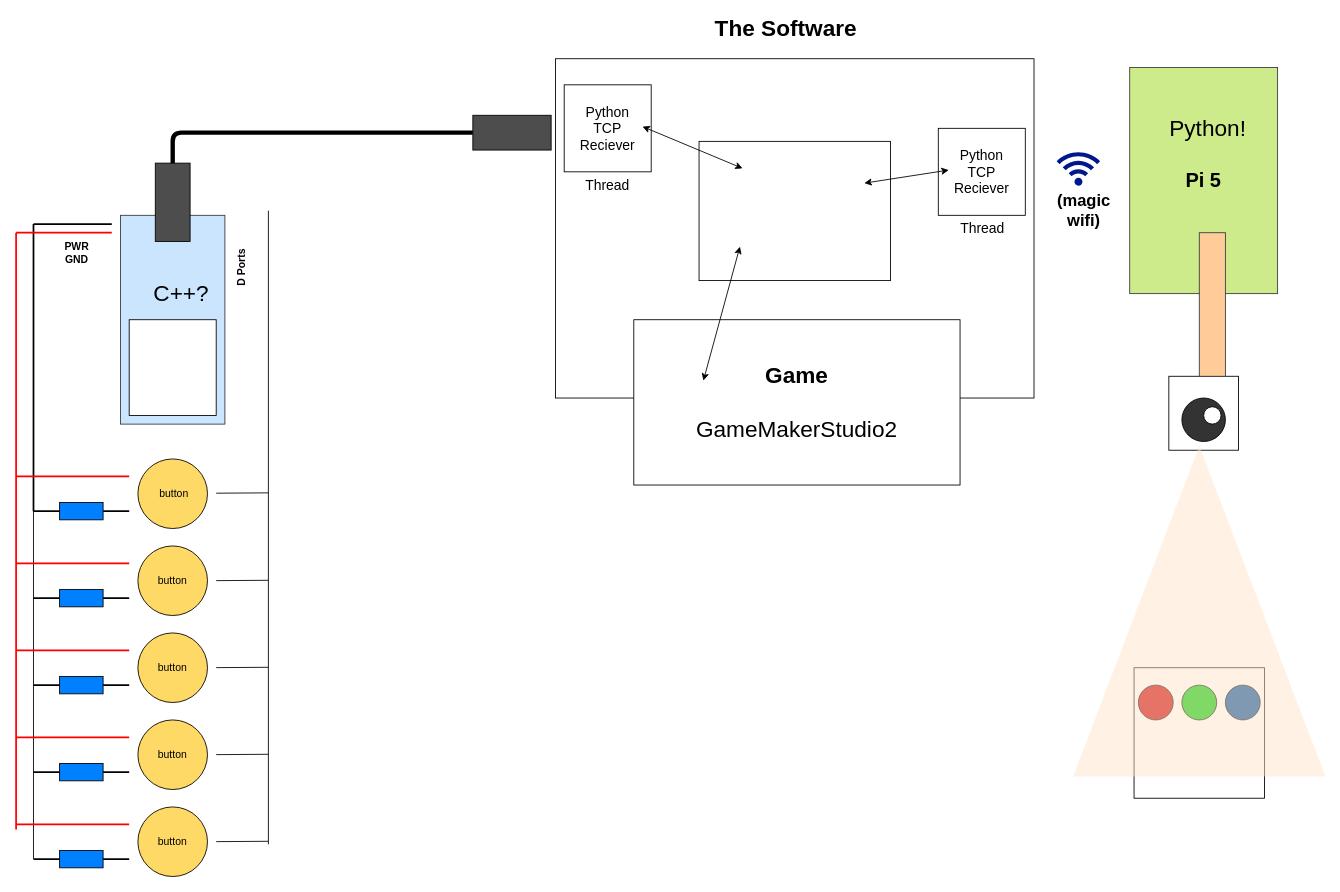
This 1340x892 diagram has some shape labels left out. The shapes that lost their labels are listed below. From the top down, each one's centre as x and y in pixels, then its label:
At [794,211]: "Main Python Client".
At [172,367]: "Particle Photon 2".
